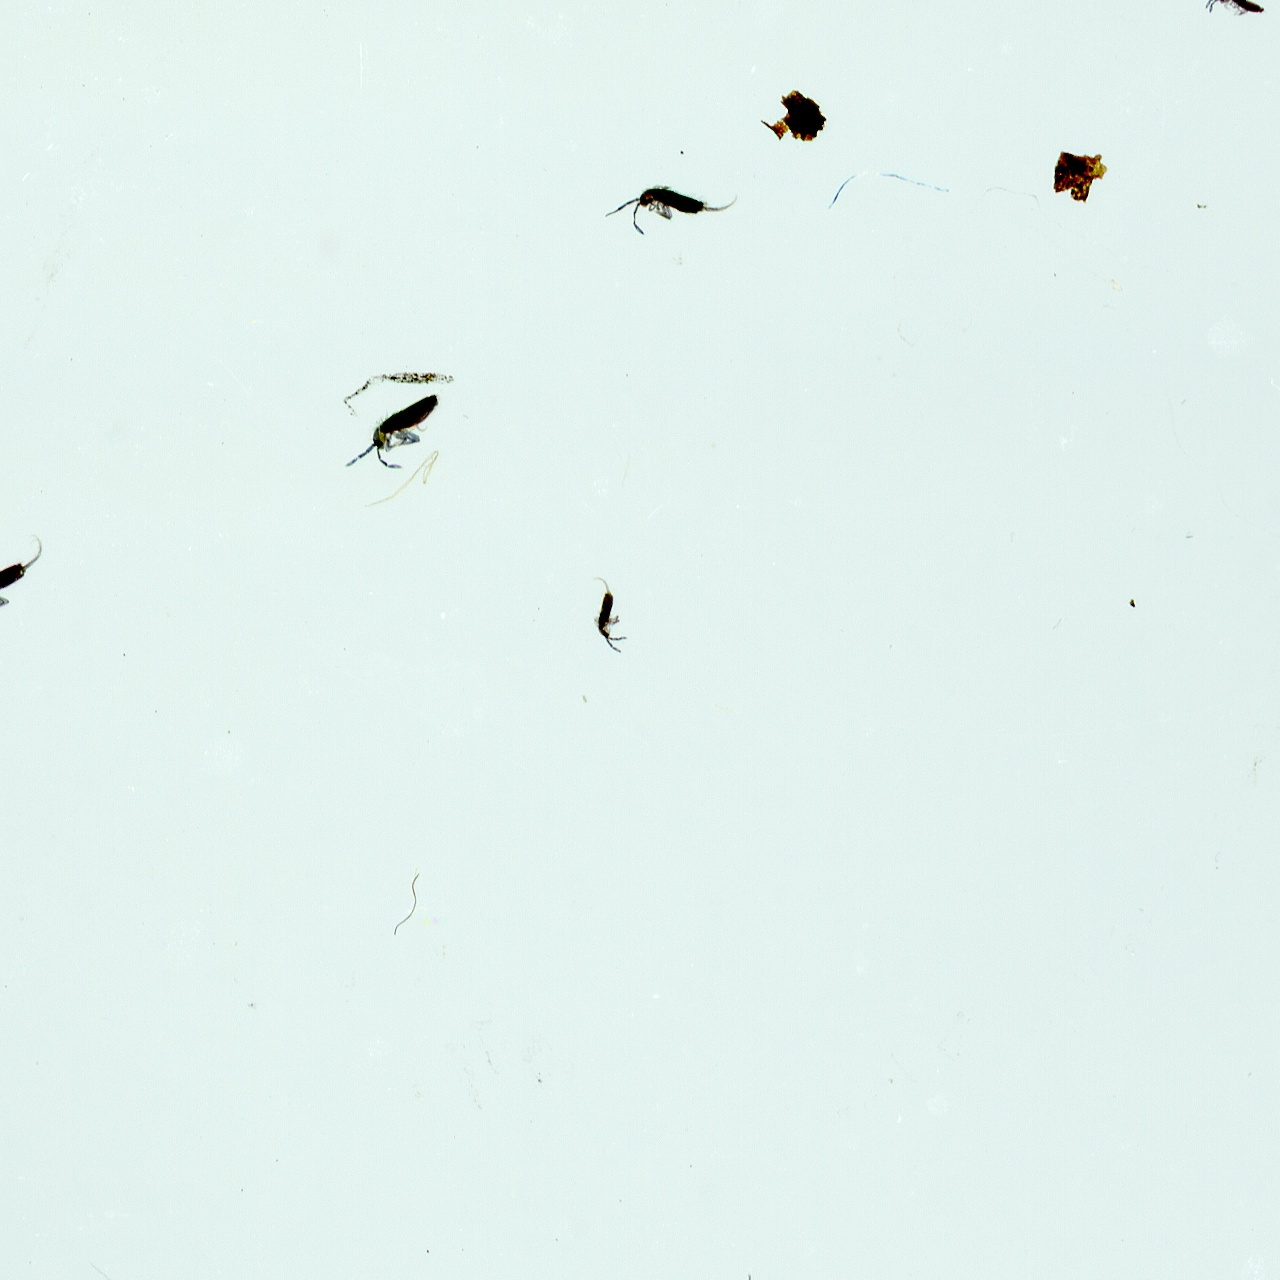arthropod: (334, 363, 460, 502), (589, 175, 747, 240), (0, 525, 52, 655), (588, 569, 635, 657), (1198, 0, 1278, 28)
